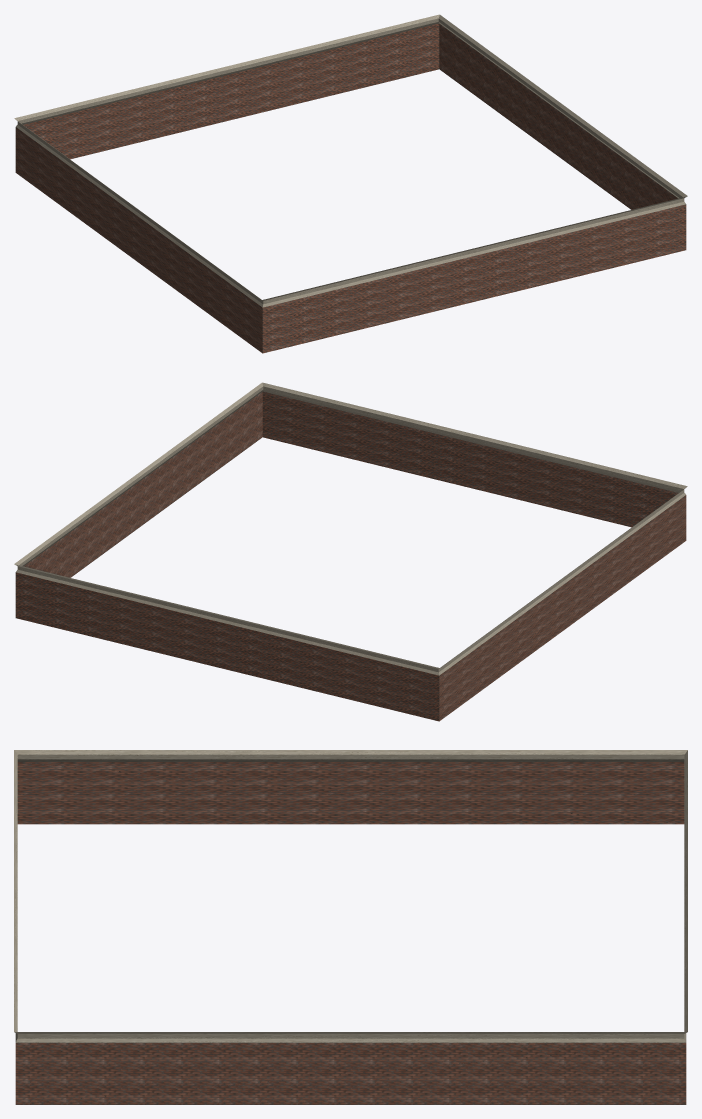
The model's file is wall.fbx.
3 views of the same model, one above another, from view 1: azimuth 30°, elevation 25°; view 2: azimuth 150°, elevation 25°; view 3: azimuth 270°, elevation 25° (orthographic). The views are drawn at different scales.
Parts seen in each view (by area): view 1: Muur; view 2: Muur; view 3: Muur.
Part boxes in pixels (x1,y1,x2,y2): Muur: [14, 14, 687, 353]; Muur: [14, 382, 687, 721]; Muur: [14, 750, 687, 1104].
Size of the model in its own units: 9464 by 1151 by 9557.
Materials: 2 (2 with a texture image).
